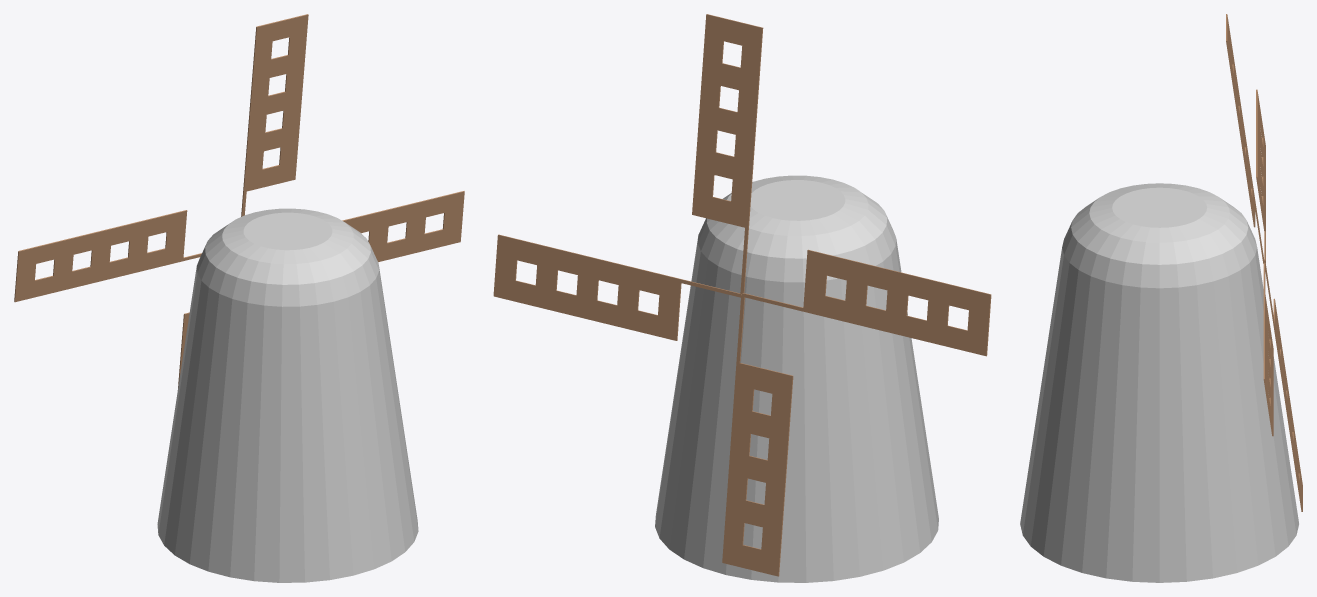
Rendered from windmill.fbx.
The picture shows the model from 3 angles, left to right: view 1: azimuth 30°, elevation 25°; view 2: azimuth 150°, elevation 25°; view 3: azimuth 270°, elevation 25°; orthographic projection. The views are drawn at different scales.
Visible parts, largest first — view 1: Cylinder, Plane; view 2: Cylinder, Plane; view 3: Cylinder, Plane.
Boxes of the visible parts, left/top/right/bottom form: Cylinder: left=157, top=208, right=418, bottom=582; Plane: left=14, top=14, right=464, bottom=387; Cylinder: left=655, top=175, right=938, bottom=582; Plane: left=493, top=14, right=991, bottom=576; Cylinder: left=1020, top=183, right=1298, bottom=582; Plane: left=1226, top=14, right=1302, bottom=511.
Size of the model in its own units: 27.35 by 27.79 by 13.97.
